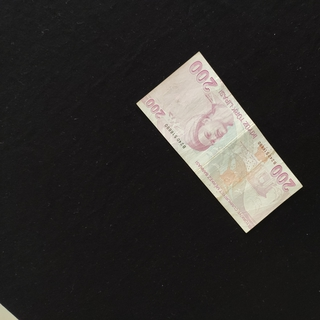200TLBack: (136, 50, 303, 233)
